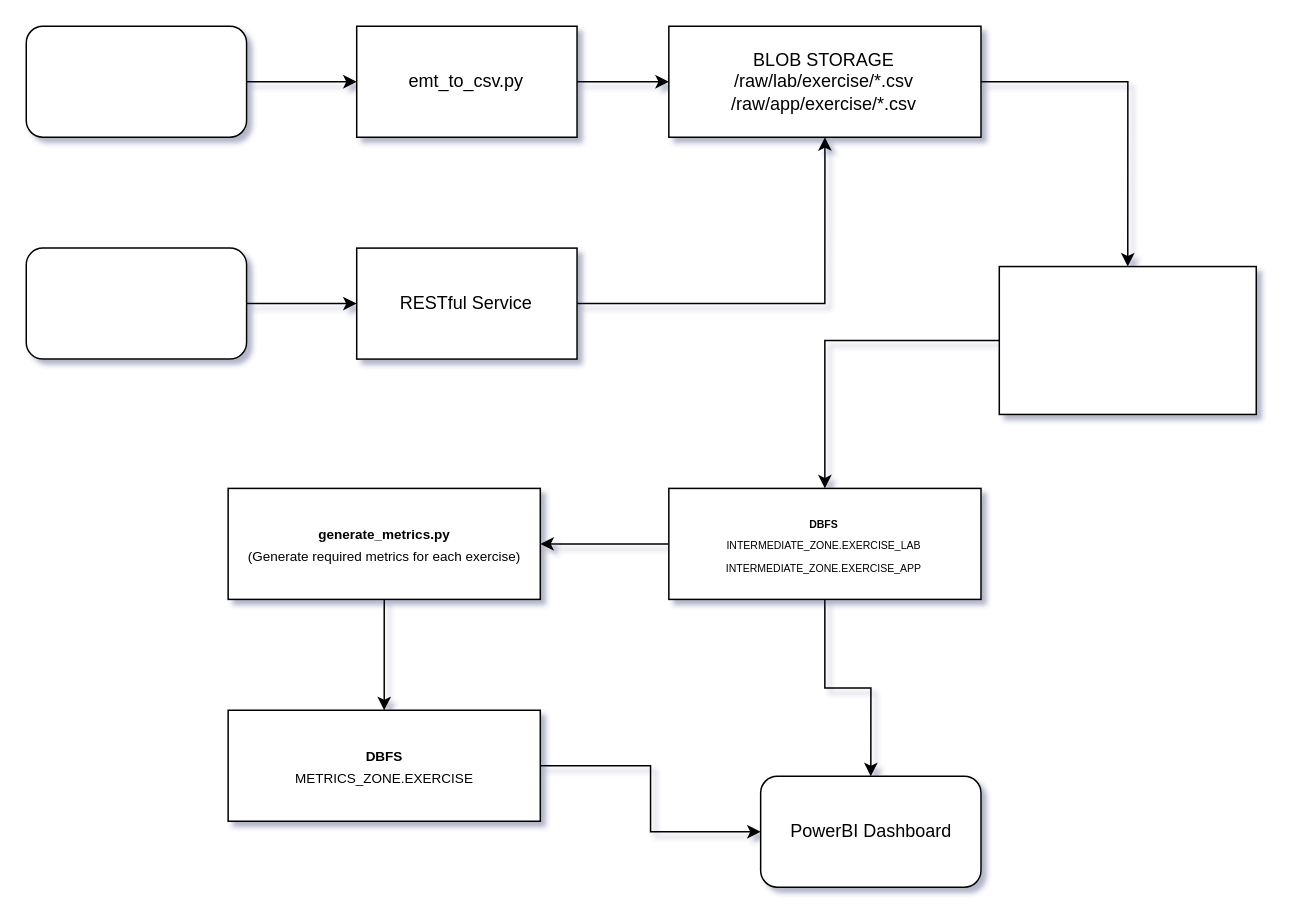
The diagram is 1292 pixels wide and 923 high, and some of its shapes have lost their labels. Here are the shapes that lost their labels. From the top down, the centre of each, then its label:
[136,81]: Lab EMT Files
[136,303]: IPad APP
[1127,339]: raw_transform.py (Add Repetition Markers) and Perform Additional Transformations
